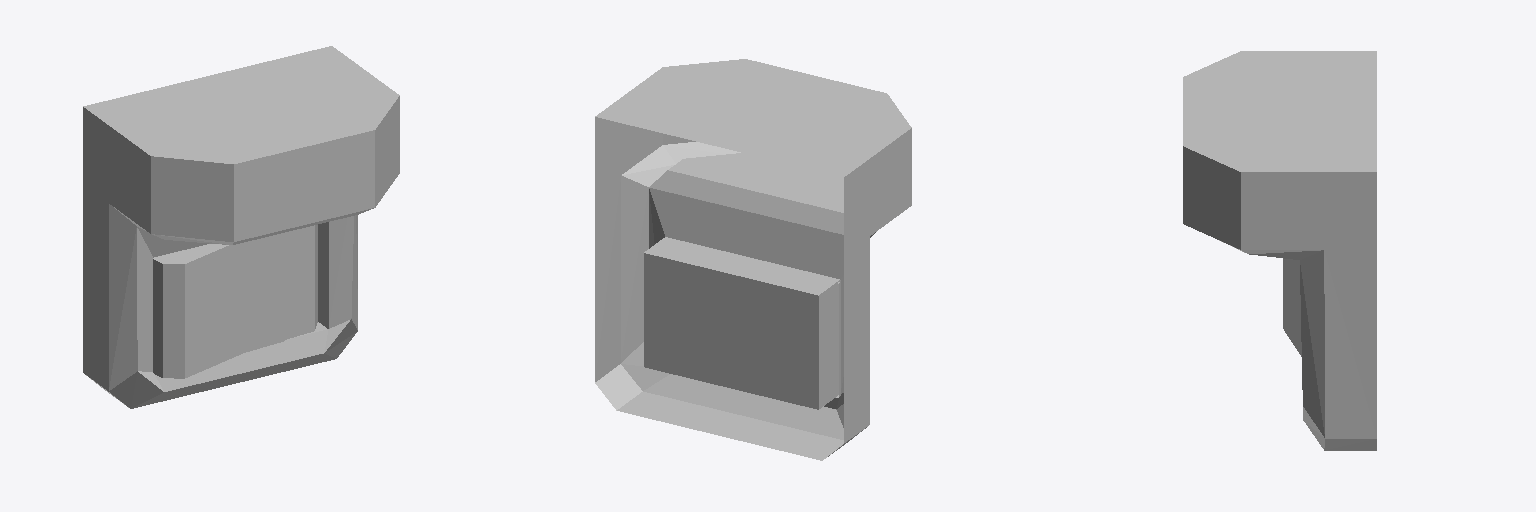
The model's file is Bed_Light_Switch.obj.
3 views of the same model, side by side, from view 1: azimuth 30°, elevation 25°; view 2: azimuth 150°, elevation 25°; view 3: azimuth 270°, elevation 25° (orthographic).
Visible parts, largest first — view 1: Bed_Light, Bed_Light_Switch; view 2: Bed_Light; view 3: Bed_Light, Bed_Light_Switch.
Boxes of the visible parts, box(x1,y1,x2,y2) form: Bed_Light: box(83, 46, 399, 408); Bed_Light_Switch: box(153, 225, 317, 378); Bed_Light: box(595, 59, 911, 460); Bed_Light: box(1183, 51, 1376, 450); Bed_Light_Switch: box(1283, 258, 1301, 356).
Bounding box in the file's own units: 26.73 × 29.54 × 18.01.